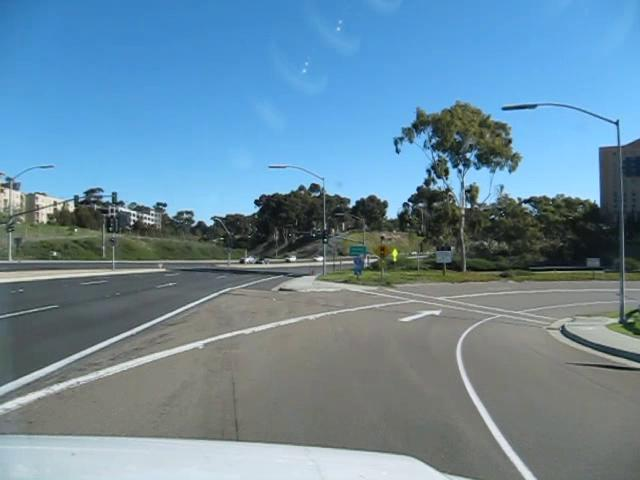signalAhead: (372, 242, 392, 260)
